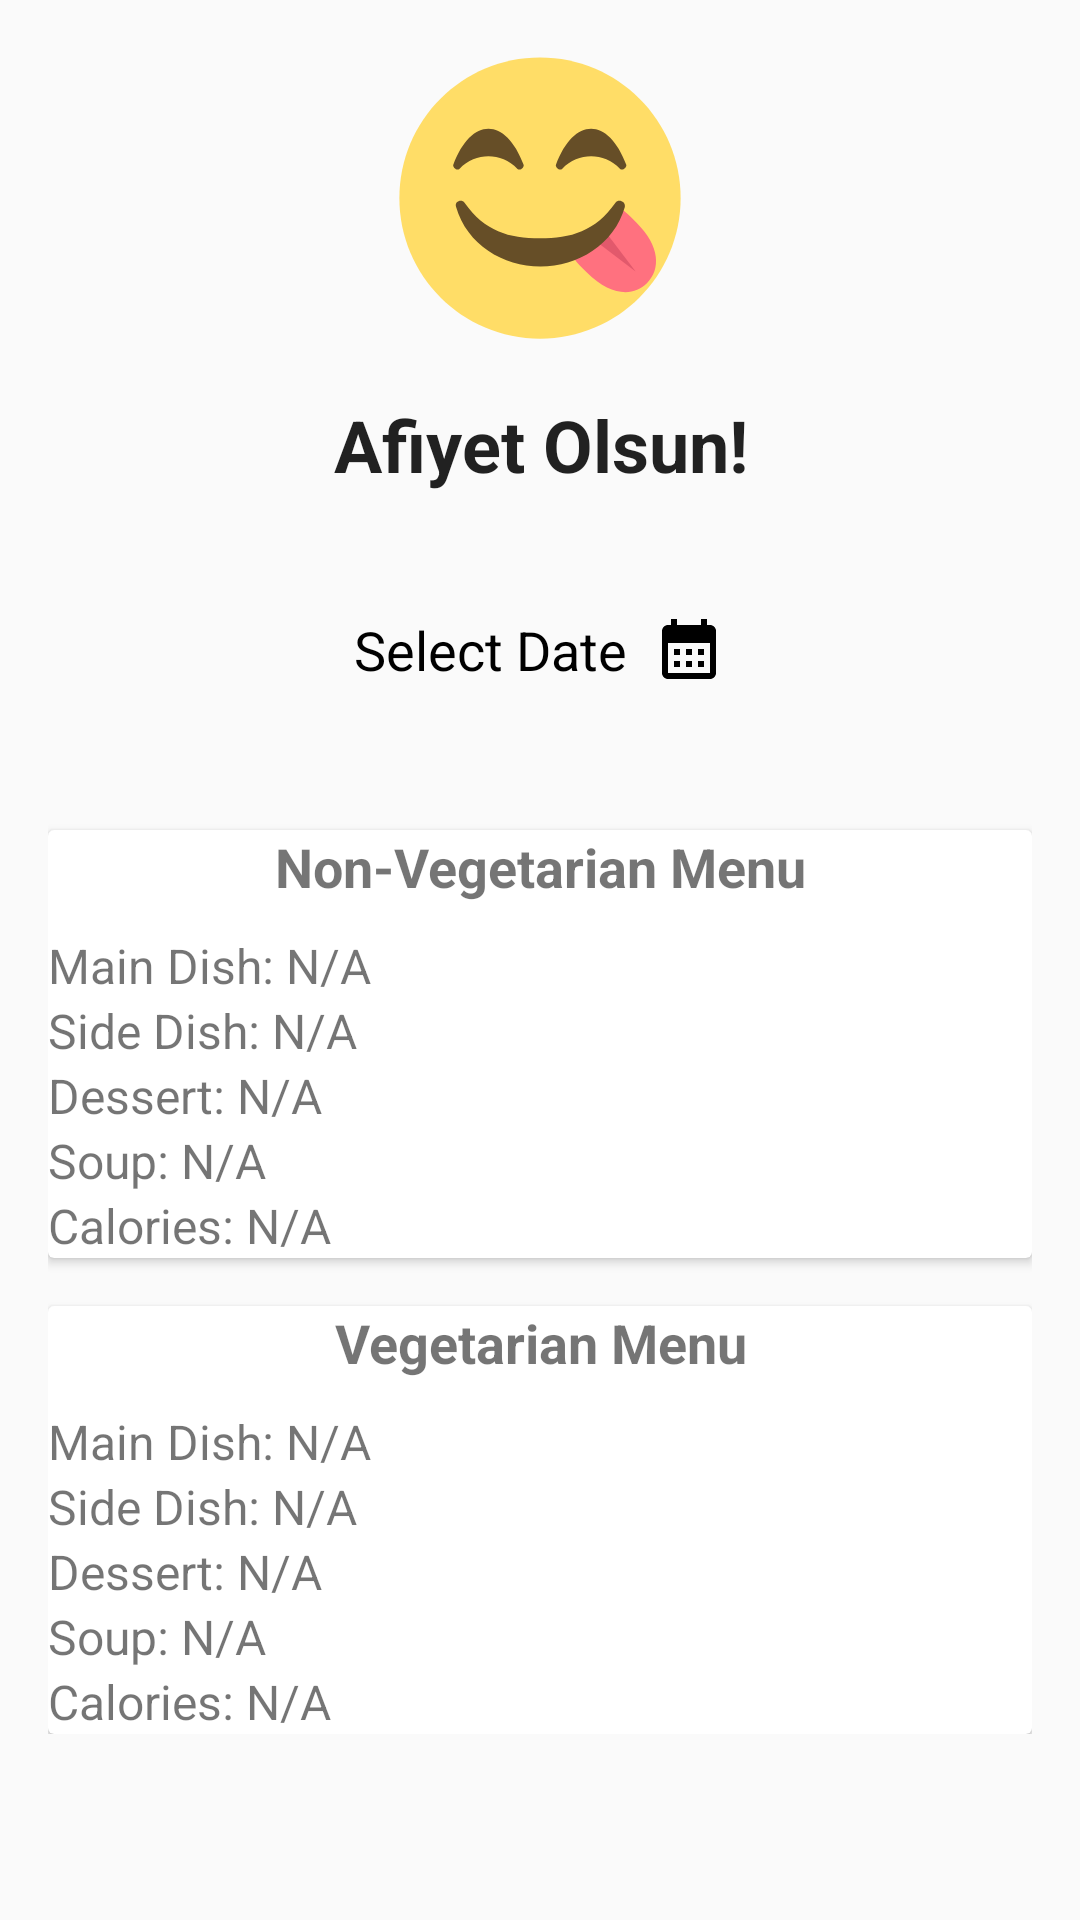

Icon click points for this 1080 x 1920 phone screenshot, format point (x, y):
Food Emoji: point (540, 198)
